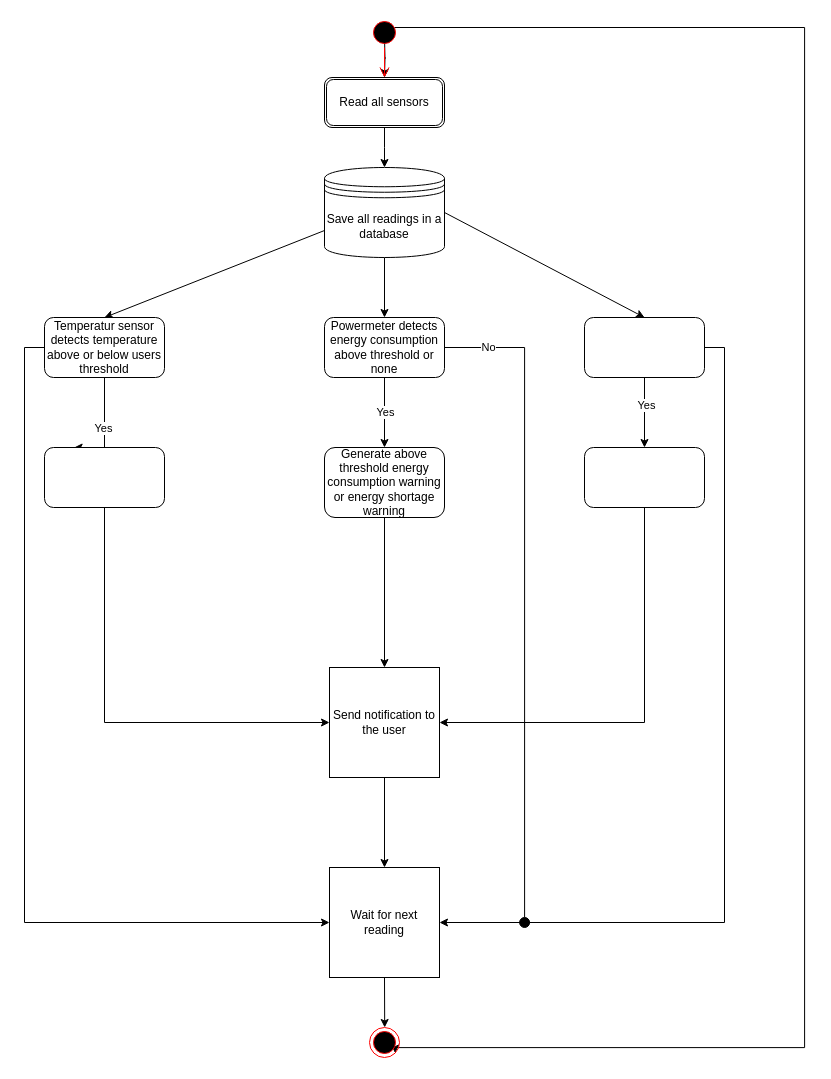
This 831x1079 diagram has some shape labels left out. The shapes that lost their labels are listed below. From the top down, each one's centre as x and y in pixels, then its label:
At (644,347): "Security sensor detects movement".
At (104,477): "Generate high or low temperature warning".
At (644,477): "Generate intrusion warning".
